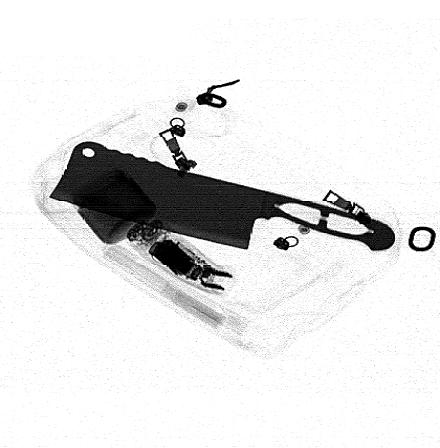Knife: (48, 141, 396, 252)
